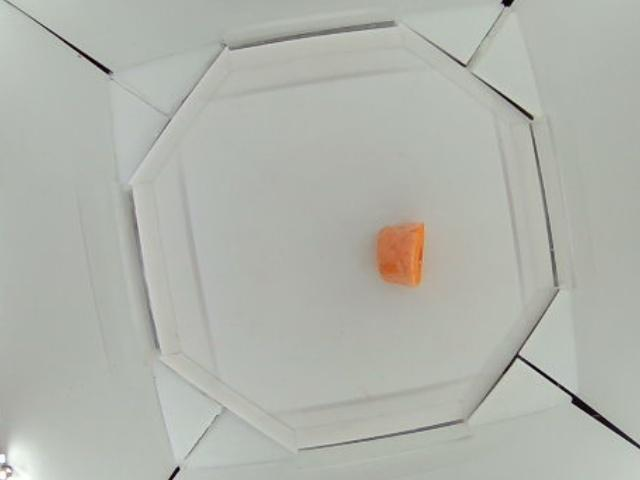Carrot: (377, 223, 427, 287)
